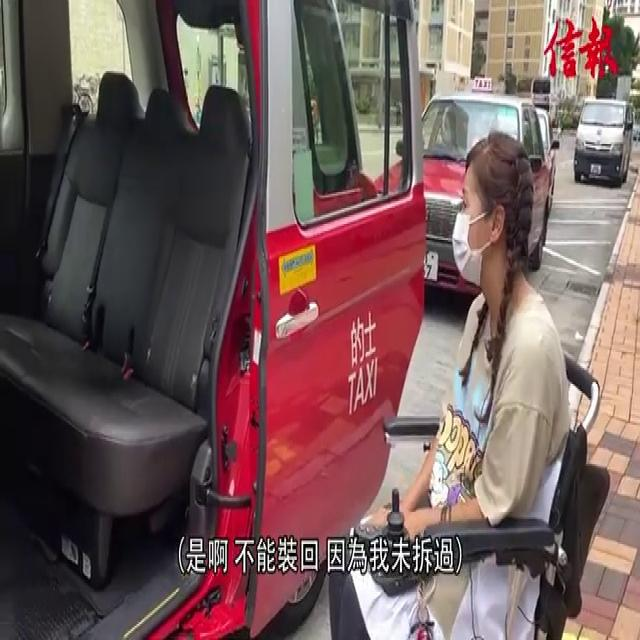wheelchairs: (348, 329, 623, 640)
